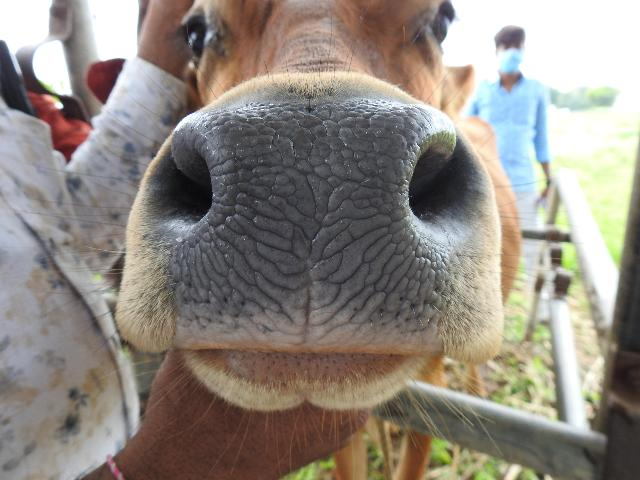Muzzle: (208, 106, 412, 330)
